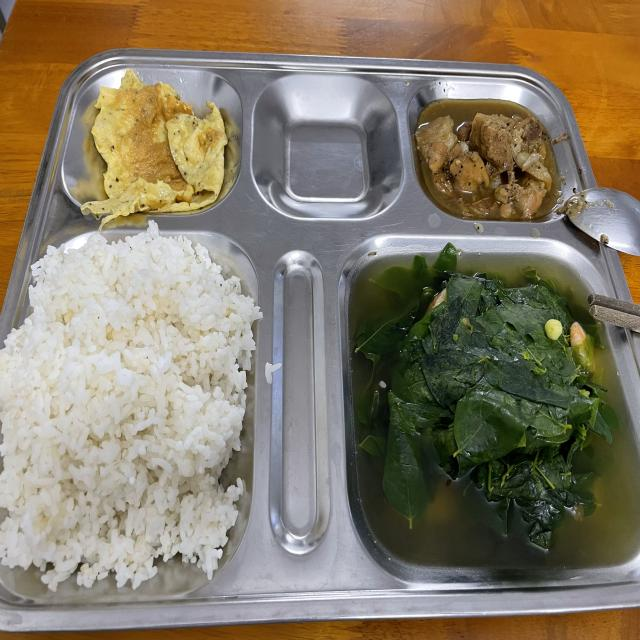canh_cai: (367, 264, 627, 562)
com_trang: (24, 253, 236, 593)
thit_kho: (419, 104, 550, 217)
trung_chien: (99, 82, 233, 204)
